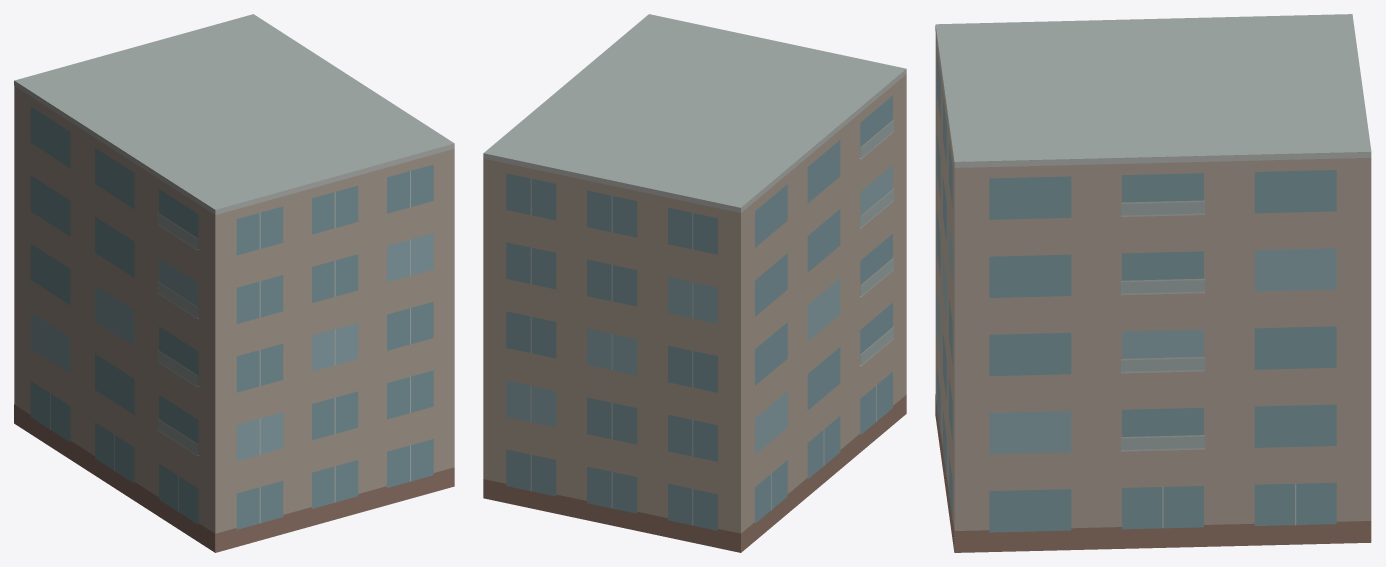
The model's file is survey-upis-32979258.glb.
3 renders of one model, left to right at view 1: azimuth 30°, elevation 25°; view 2: azimuth 150°, elevation 25°; view 3: azimuth 270°, elevation 25°, orthographic. The views are drawn at different scales.
Visible parts, largest first — view 1: survey-upis-32979258.tmp; view 2: survey-upis-32979258.tmp; view 3: survey-upis-32979258.tmp.
Part boxes in pixels (x1,y1,x2,y2): survey-upis-32979258.tmp: (14,14,454,552); survey-upis-32979258.tmp: (483,14,906,552); survey-upis-32979258.tmp: (935,14,1371,552).
Bounding box in the file's own units: 12.91 × 15.9 × 16.08.
